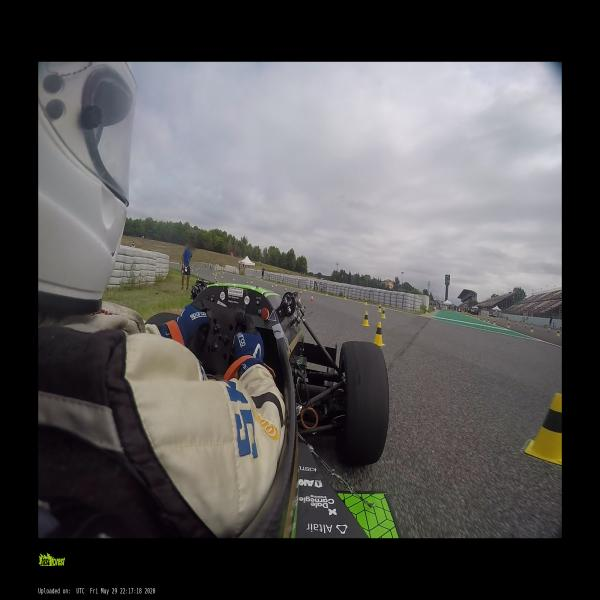orange_cone: (310, 295, 313, 302), (299, 290, 302, 296), (298, 297, 301, 303), (284, 287, 287, 292), (271, 285, 273, 291)
yellow_cone: (527, 394, 562, 465), (371, 322, 385, 346), (361, 312, 370, 326), (381, 309, 386, 318), (530, 325, 534, 332), (378, 304, 381, 312), (364, 298, 367, 306), (556, 330, 560, 336), (506, 322, 510, 328), (343, 294, 346, 300), (493, 320, 496, 325), (487, 318, 490, 323), (326, 291, 328, 296), (274, 282, 276, 287), (251, 278, 252, 284), (304, 287, 305, 291)
